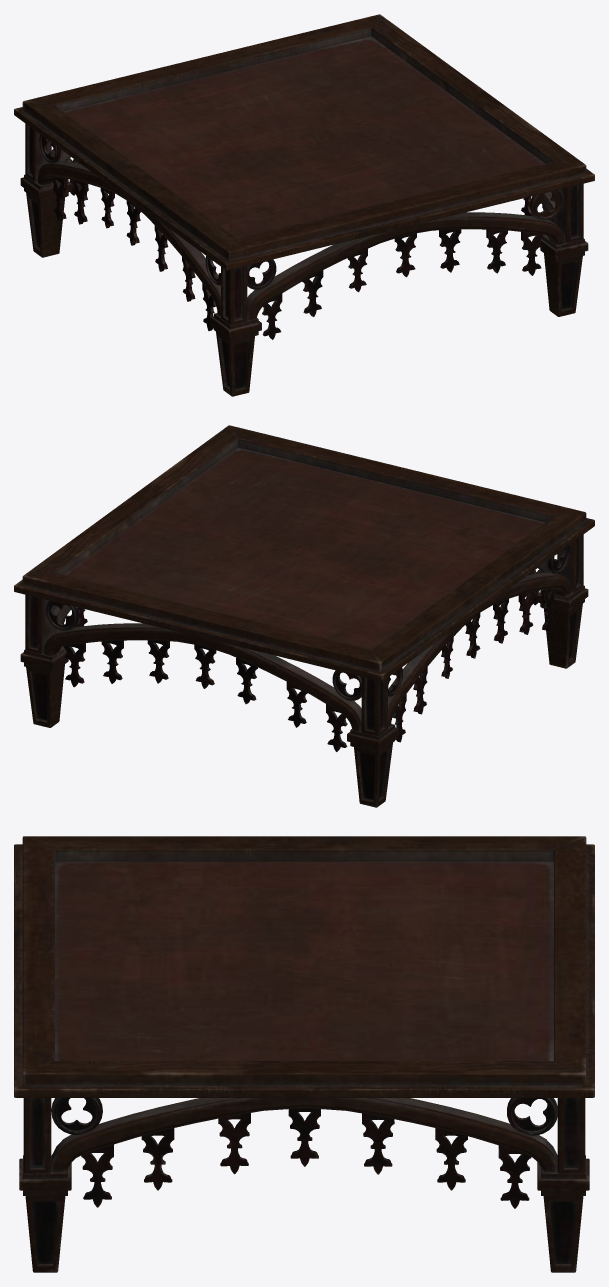
Rendered from ph_gothic_coffee_table.glb.
3 renders of one model, top to bottom at view 1: azimuth 30°, elevation 25°; view 2: azimuth 150°, elevation 25°; view 3: azimuth 270°, elevation 25°, orthographic. The views are drawn at different scales.
Visible parts, largest first — view 1: ph_gothic_coffee_table; view 2: ph_gothic_coffee_table; view 3: ph_gothic_coffee_table.
Boxes of the visible parts, bbox=[...] form: ph_gothic_coffee_table: bbox=[14, 14, 594, 396]; ph_gothic_coffee_table: bbox=[14, 425, 594, 807]; ph_gothic_coffee_table: bbox=[14, 836, 594, 1272].
Size of the model in its own units: 1.44 by 0.5588 by 1.44.
1 material, 1 textured.
